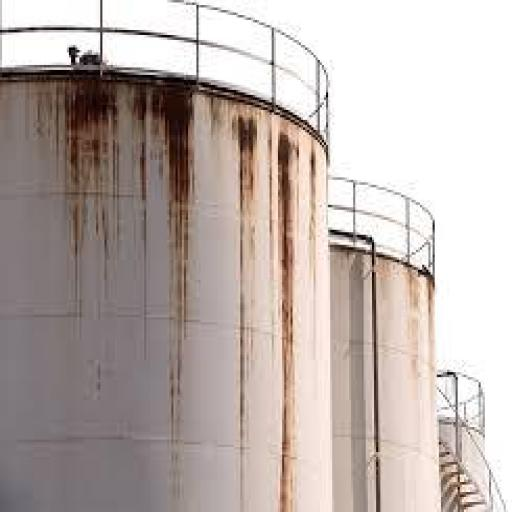corrosion: (124, 86, 192, 399), (64, 78, 123, 248), (279, 134, 301, 509), (235, 116, 259, 456)
